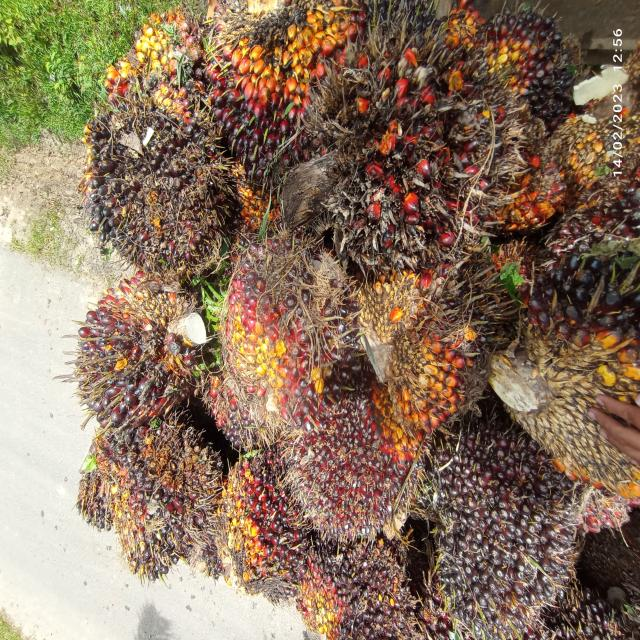fraksi 00: (54, 22, 234, 282), (416, 395, 576, 636), (65, 369, 221, 604), (206, 0, 358, 190), (295, 524, 415, 640), (478, 0, 575, 137)
fraksi 1: (274, 337, 422, 573), (212, 217, 348, 435), (67, 256, 207, 441), (200, 412, 304, 621)
fraksi 3: (362, 245, 488, 447)
fraksi 4: (301, 3, 498, 288)
